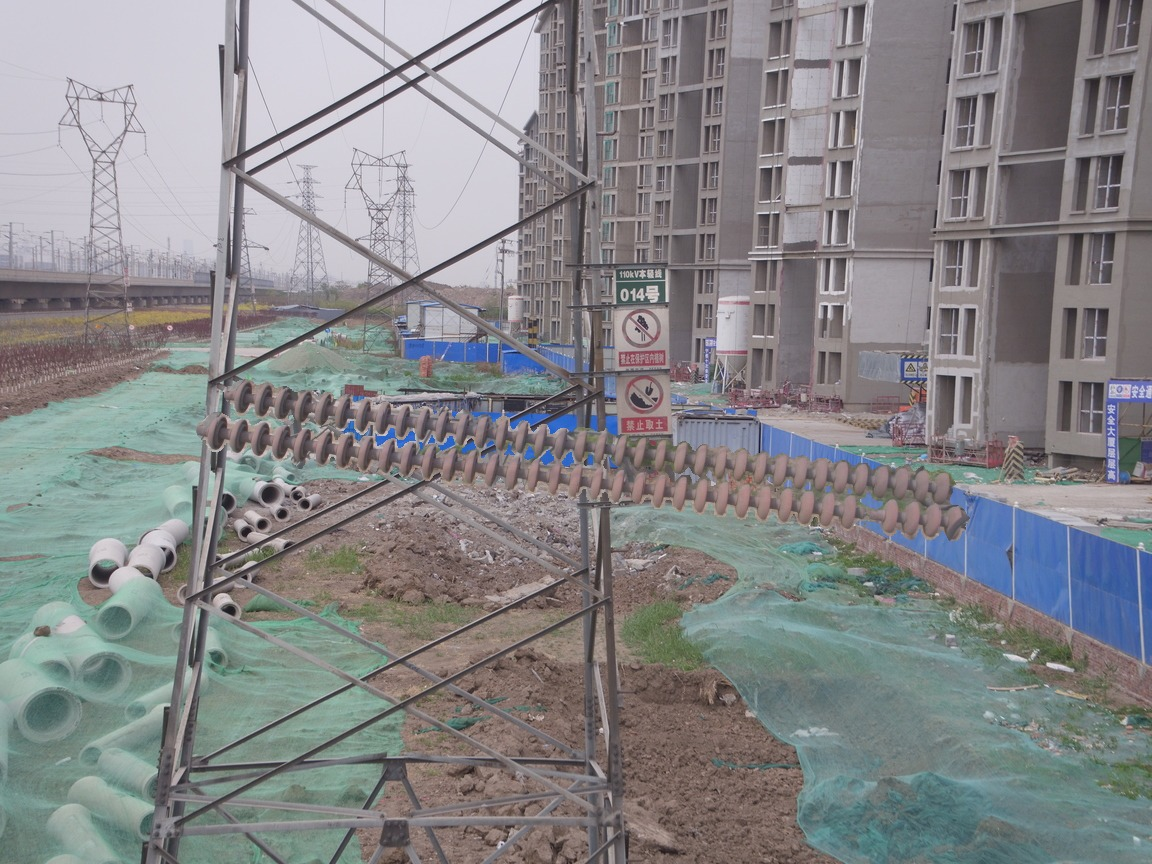defect: (834, 490, 906, 538)
